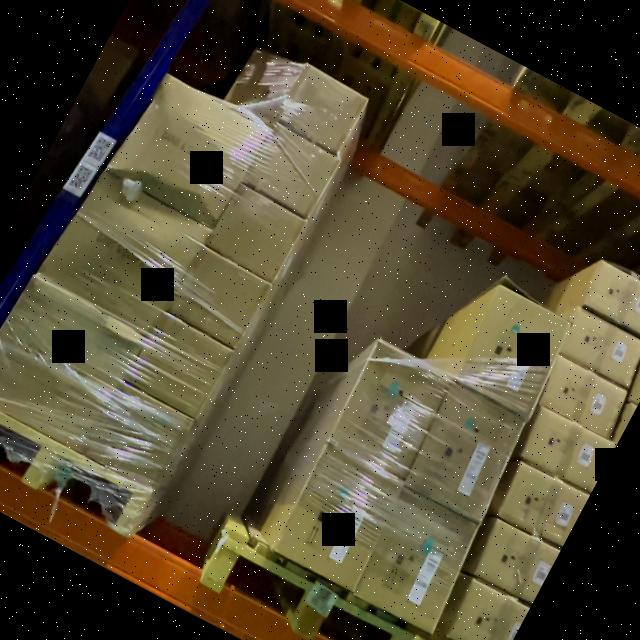box: (35, 169, 212, 338), (0, 274, 147, 452), (105, 73, 272, 228), (272, 442, 404, 592), (352, 485, 481, 635), (326, 339, 451, 480), (403, 381, 528, 522), (453, 278, 572, 418), (79, 383, 195, 491), (122, 312, 235, 419), (164, 246, 274, 351), (202, 182, 309, 284), (240, 121, 343, 219), (273, 63, 369, 155), (519, 404, 614, 495), (537, 353, 629, 439), (221, 46, 304, 130), (558, 305, 640, 390), (581, 259, 640, 336)
